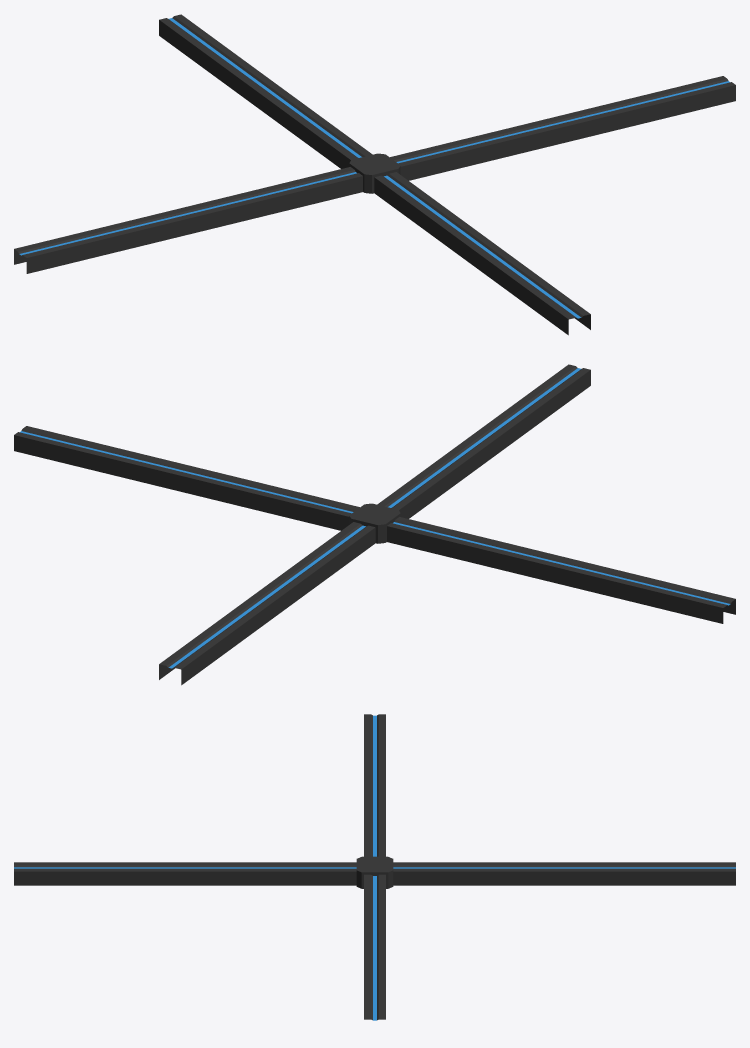
3 renders of one model, top to bottom at view 1: azimuth 30°, elevation 25°; view 2: azimuth 150°, elevation 25°; view 3: azimuth 270°, elevation 25°, orthographic. The views are drawn at different scales.
Visible parts, largest first — view 1: 1111; view 2: 1111; view 3: 1111.
Boxes of the visible parts, x1=… form: 1111: x1=14, y1=14, x2=735, y2=335; 1111: x1=14, y1=364, x2=735, y2=685; 1111: x1=14, y1=714, x2=735, y2=1020.
Size of the model in its own units: 2 by 0.0503 by 2.
